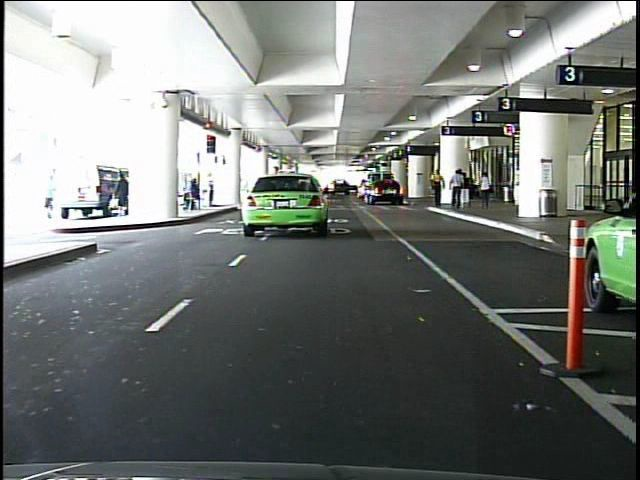person: (39, 165, 63, 226), (115, 168, 138, 217), (474, 168, 496, 217), (427, 166, 447, 212), (448, 164, 467, 212), (205, 170, 218, 213), (460, 171, 473, 212)
